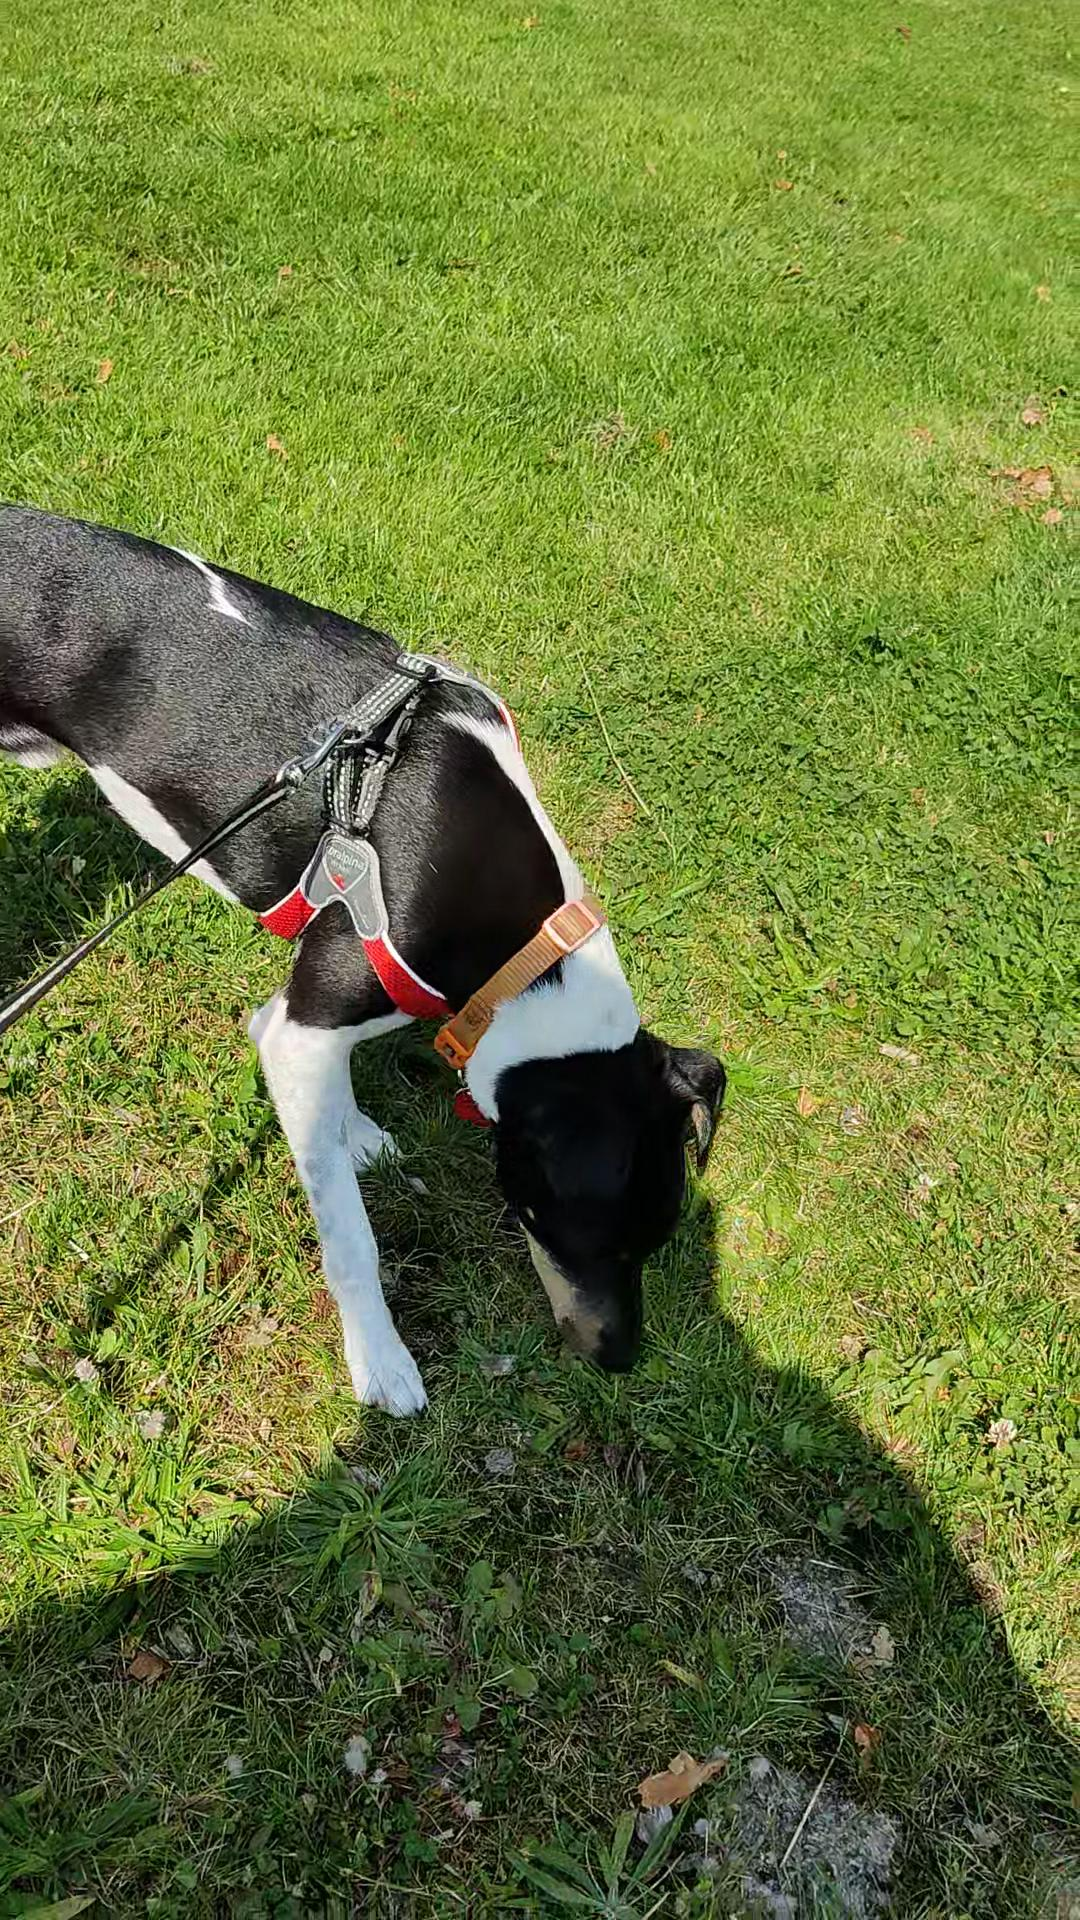Dog: (0, 492, 733, 1425)
